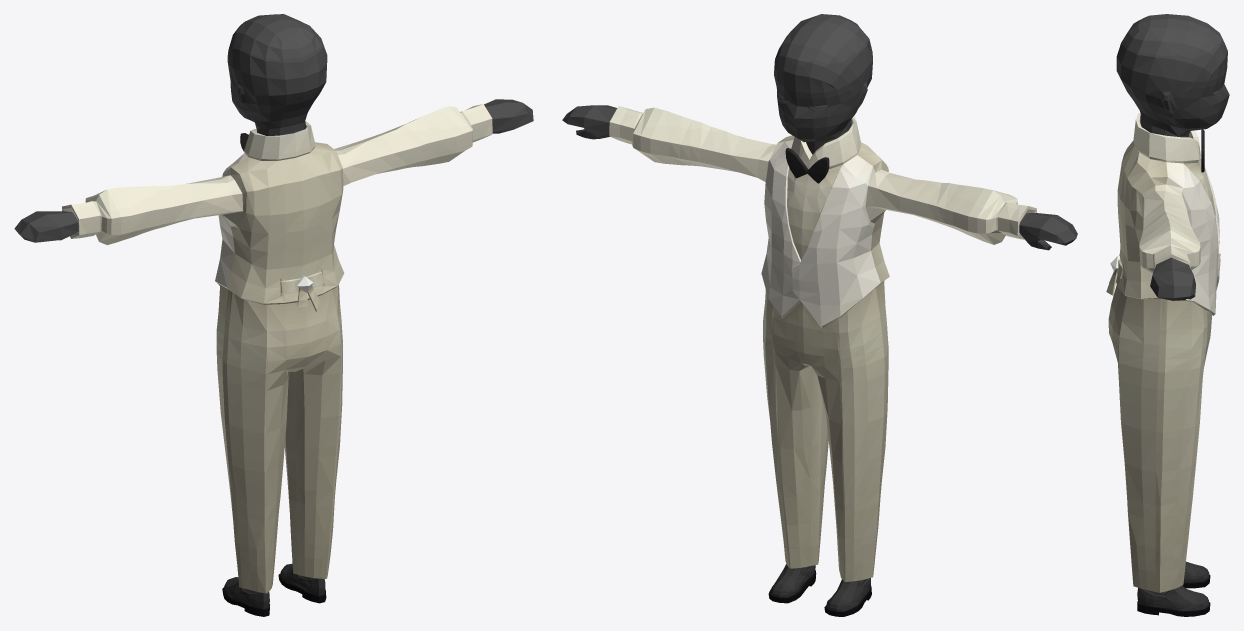
Rendered from CharSkyKid_Body_AnnivBeigeSuit.glb.
3 views of the same model, side by side, from view 1: azimuth 30°, elevation 25°; view 2: azimuth 150°, elevation 25°; view 3: azimuth 270°, elevation 25° (orthographic).
Visible parts, largest first — view 1: CharSkyKid_Body_AnnivBeigeSuit; view 2: CharSkyKid_Body_AnnivBeigeSuit; view 3: CharSkyKid_Body_AnnivBeigeSuit.
Boxes of the visible parts, box(x1,y1,x2,y2) form: CharSkyKid_Body_AnnivBeigeSuit: box(14, 14, 533, 616); CharSkyKid_Body_AnnivBeigeSuit: box(562, 14, 1077, 616); CharSkyKid_Body_AnnivBeigeSuit: box(1106, 14, 1229, 616).
Size of the model in its own units: 13.83 by 14.88 by 2.88.
1 material, 1 textured.
